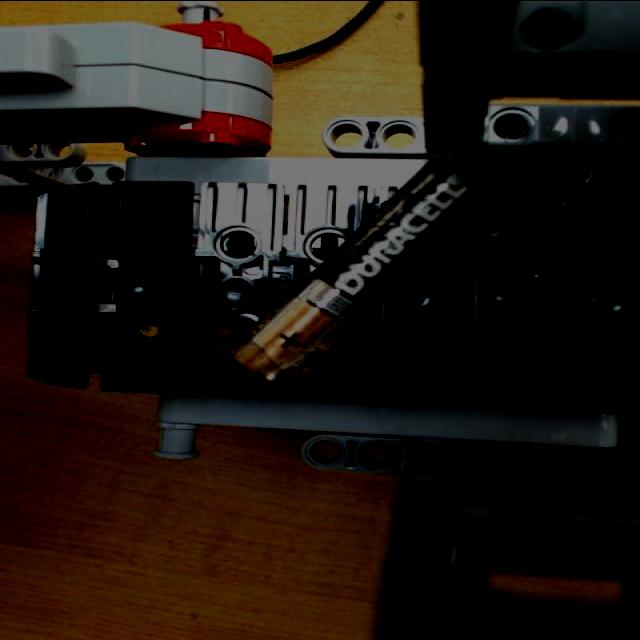AAA: (230, 146, 494, 391)
